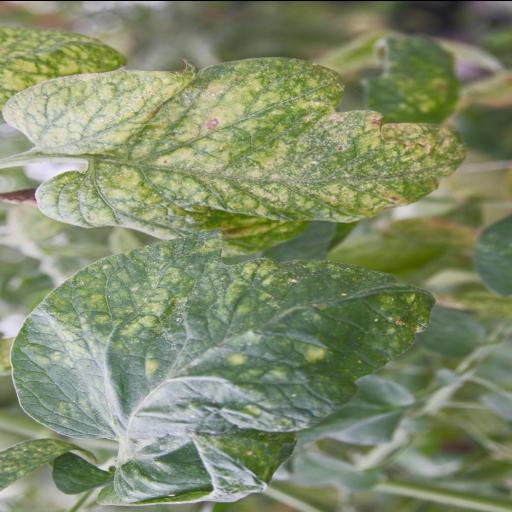disease_tomato: (12, 231, 440, 461), (0, 56, 466, 246)
